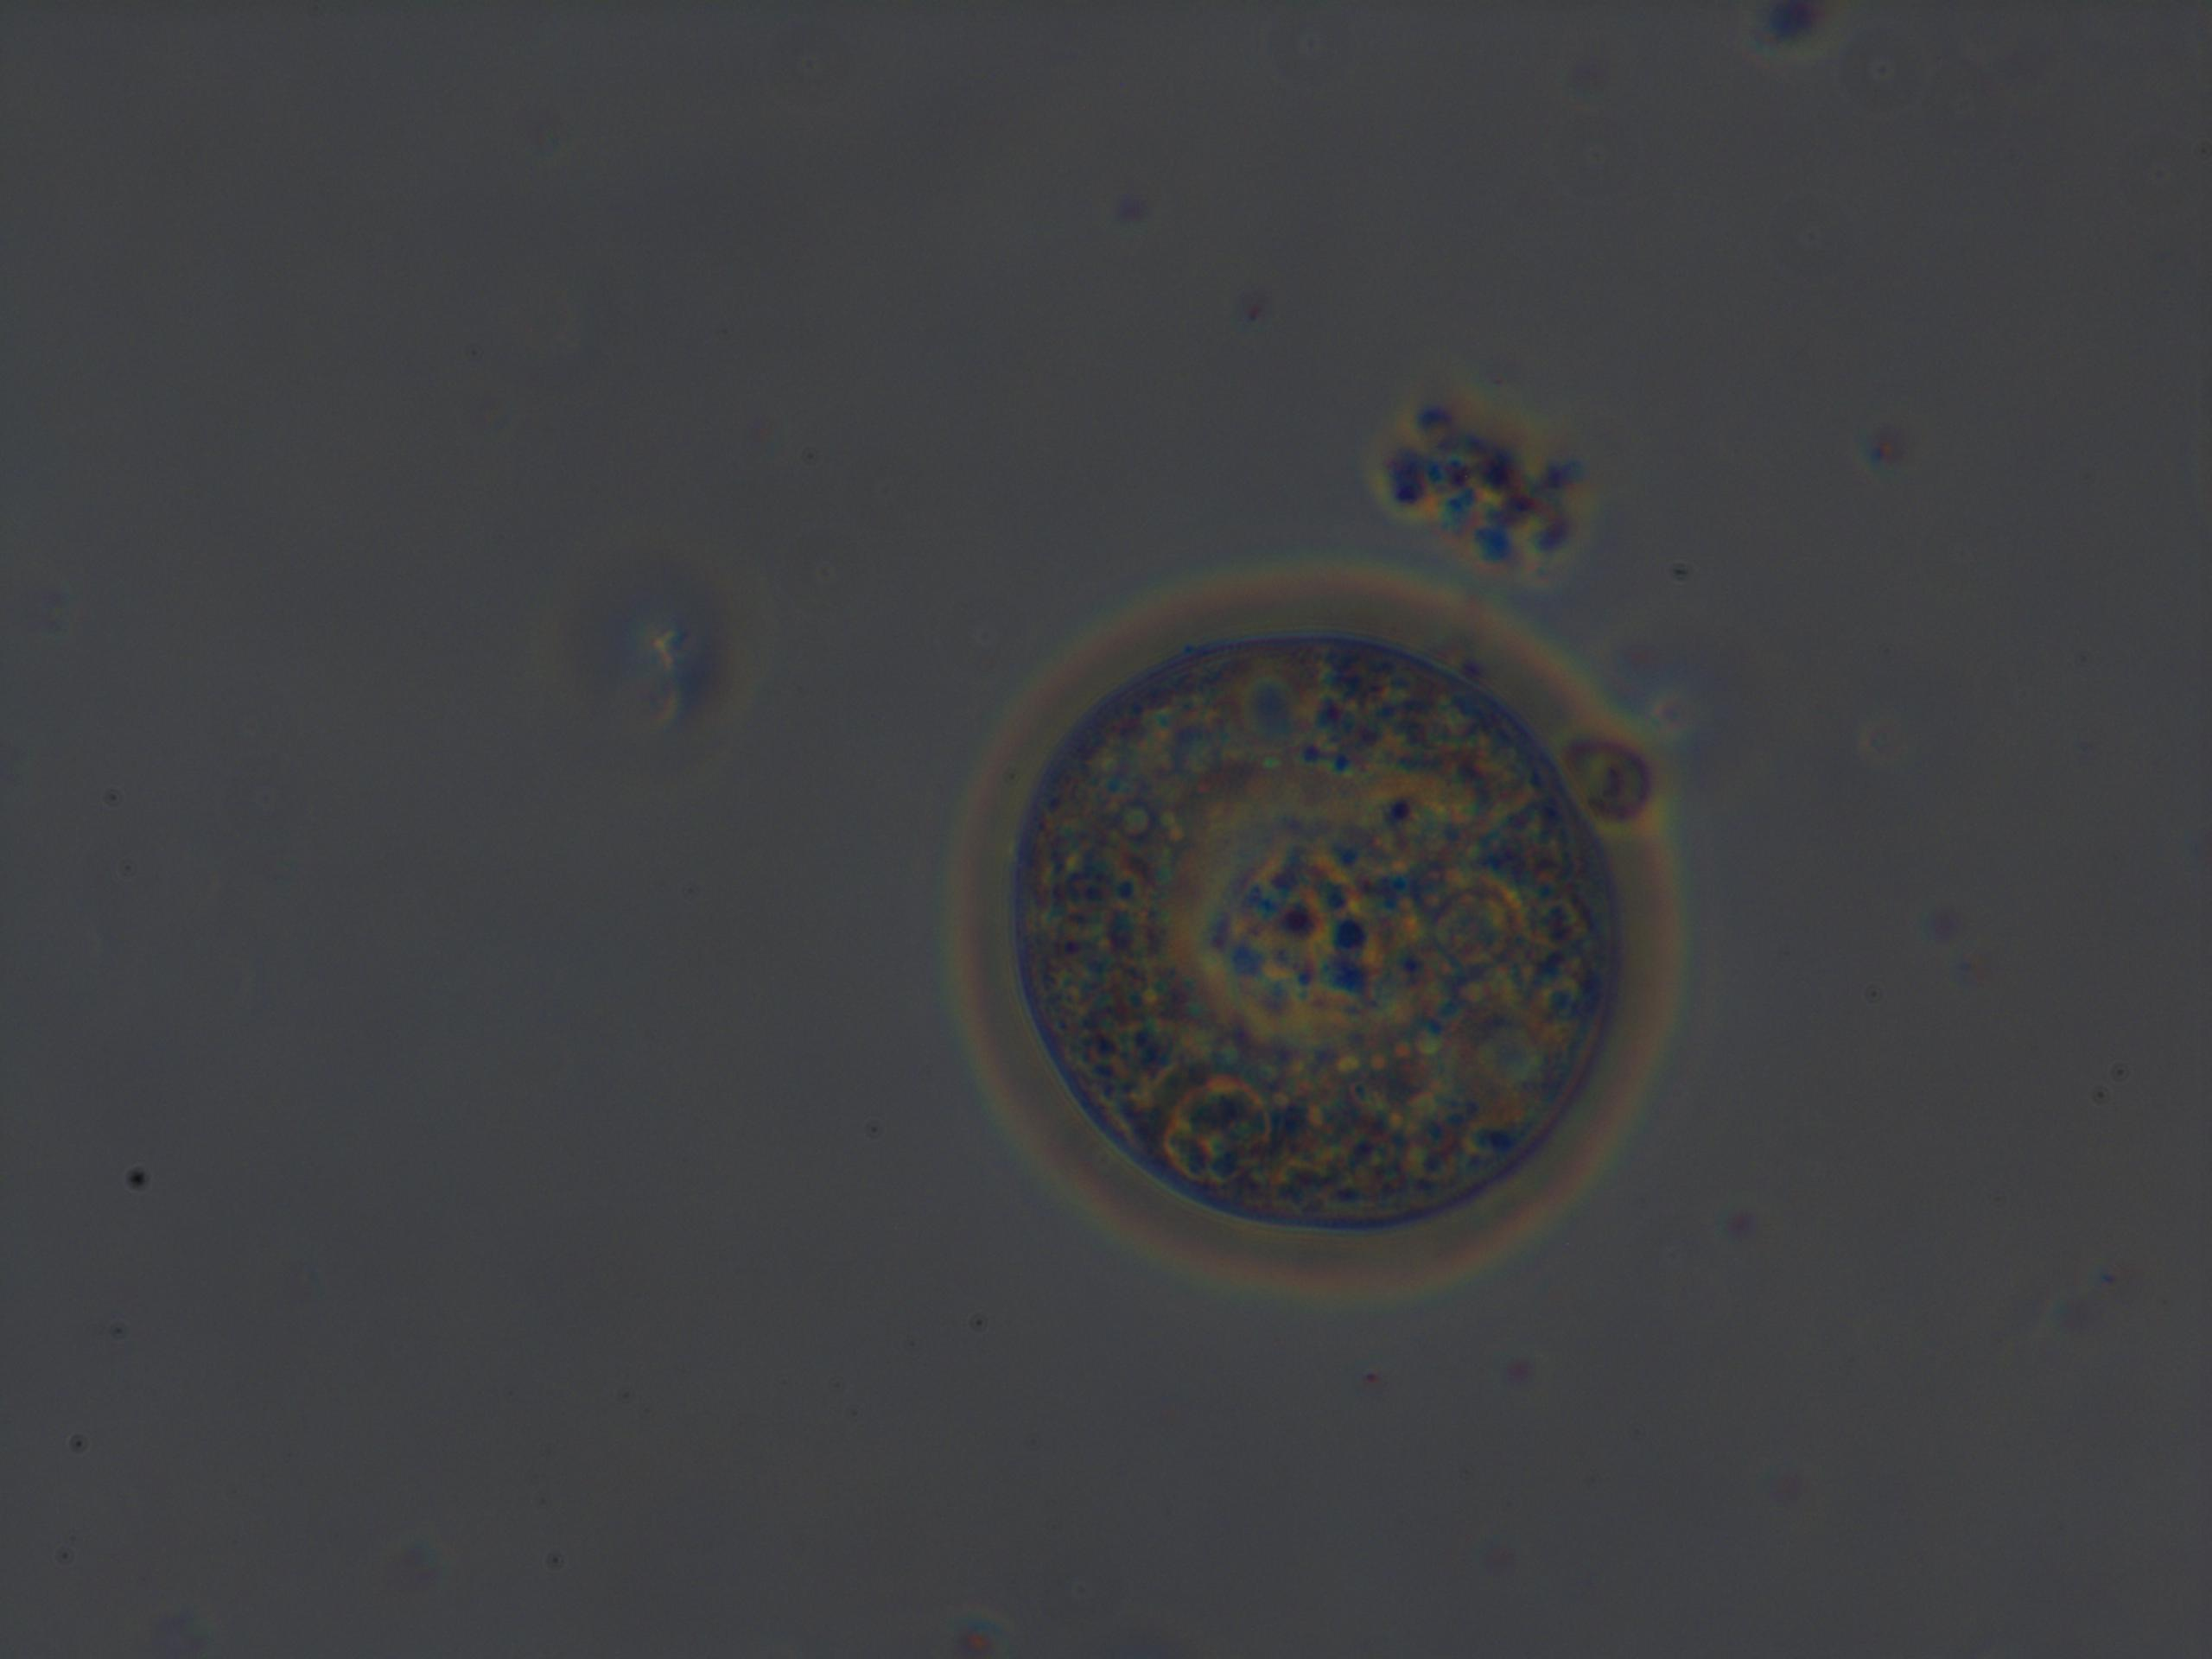protozoa: (906, 532, 1731, 1312)
